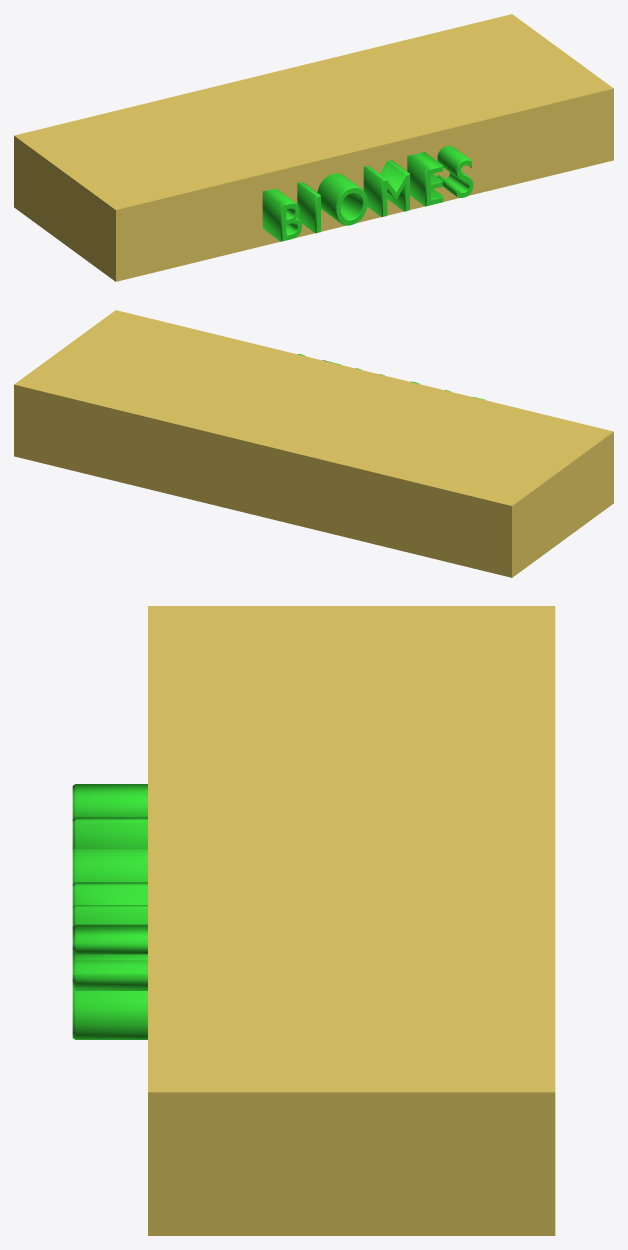
File: biomes.gltf
3 renders of one model, top to bottom at view 1: azimuth 30°, elevation 25°; view 2: azimuth 150°, elevation 25°; view 3: azimuth 270°, elevation 25°, orthographic. The views are drawn at different scales.
Visible parts, largest first — view 1: Cube.008, CEELS.008; view 2: Cube.008; view 3: Cube.008, CEELS.008.
Boxes of the visible parts, box(x1,y1,x2,y2) form: Cube.008: box(14, 14, 613, 281); CEELS.008: box(262, 145, 473, 241); Cube.008: box(14, 310, 613, 577); Cube.008: box(148, 606, 555, 1235); CEELS.008: box(72, 784, 147, 1039).
Bounding box in the file's own units: 1.74 × 0.2392 × 0.7293.
